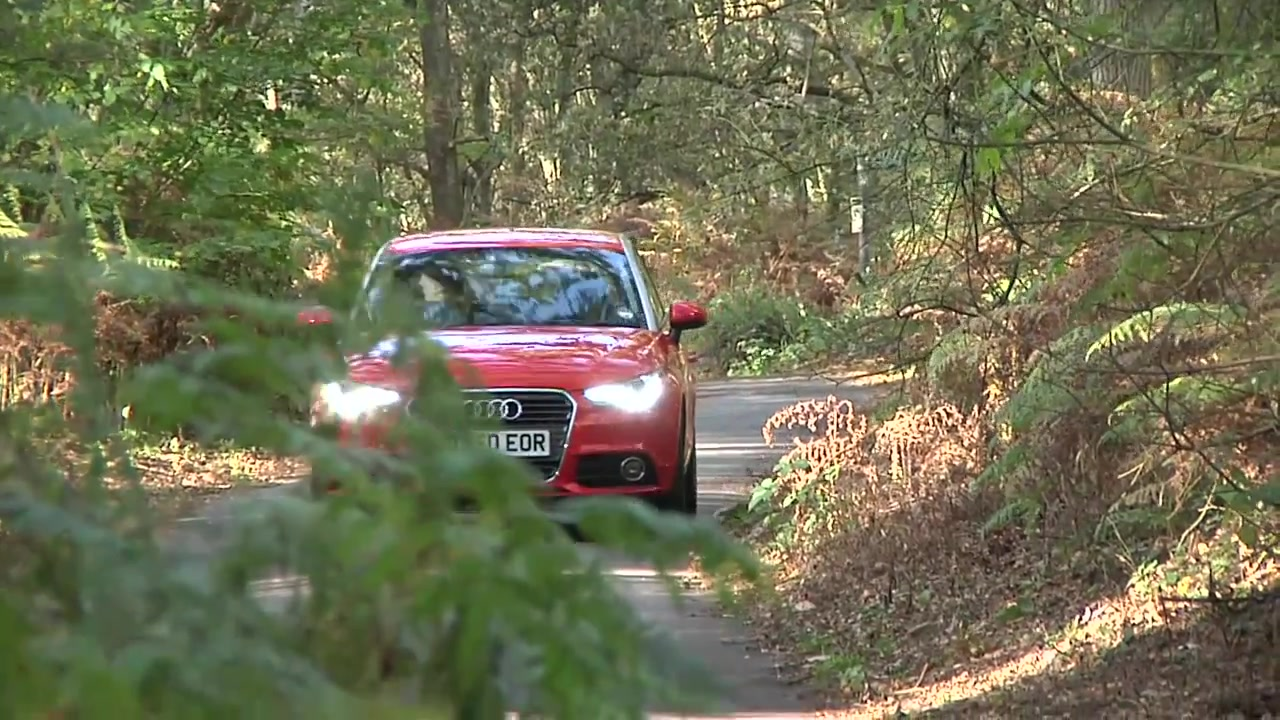car: (295, 228, 709, 526)
